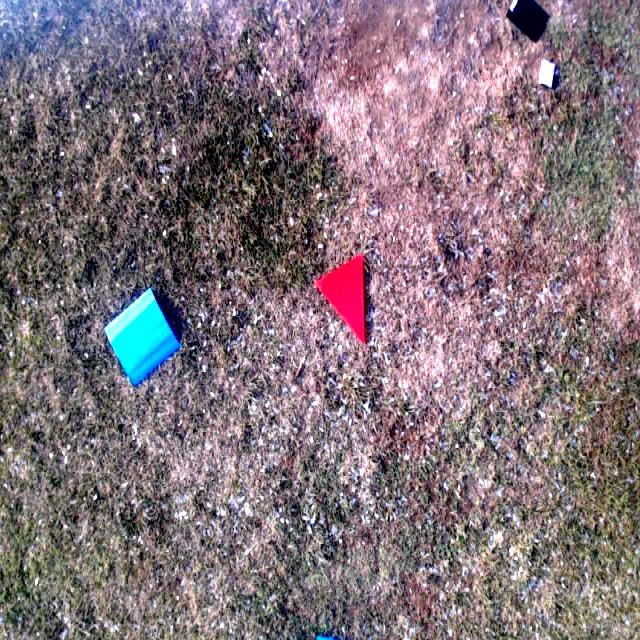blue_square: (106, 286, 181, 386)
red_triangle: (316, 252, 365, 344)
